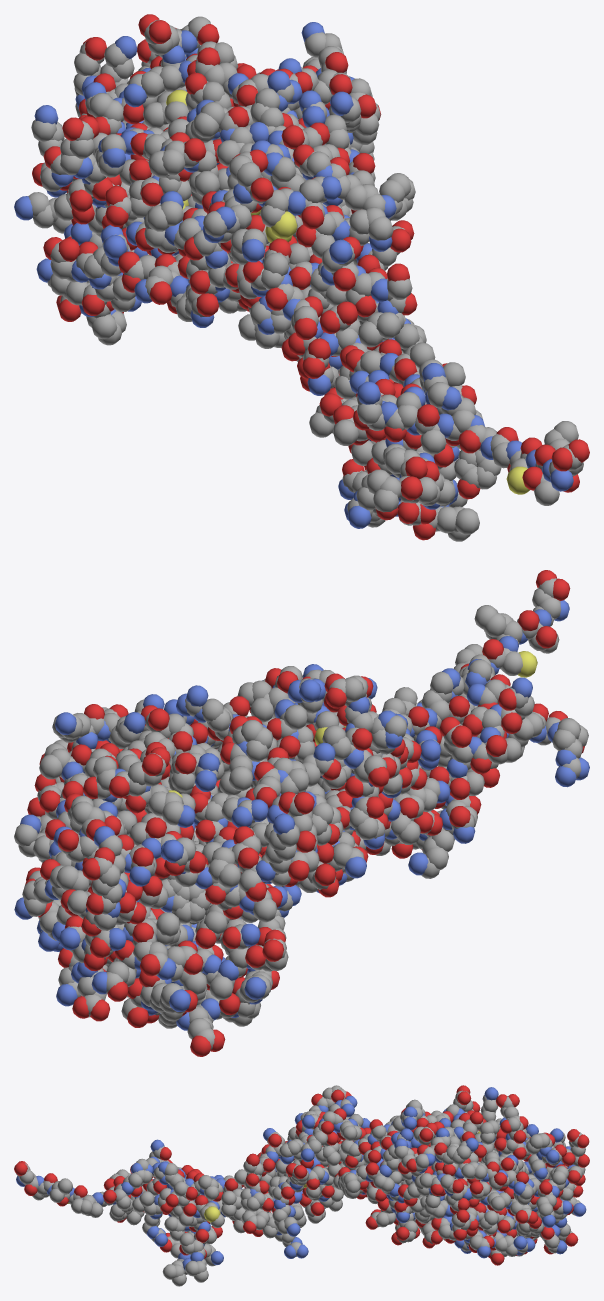
The model's file is influenza-cpk.glb.
3 views of the same model, one above another, from view 1: azimuth 30°, elevation 25°; view 2: azimuth 150°, elevation 25°; view 3: azimuth 270°, elevation 25° (orthographic). The views are drawn at different scales.
Visible parts, largest first — view 1: influenza-cpk; view 2: influenza-cpk; view 3: influenza-cpk.
Boxes of the visible parts, x1,y1,x2,y2 form: influenza-cpk: (14,14,589,541); influenza-cpk: (14,570,589,1056); influenza-cpk: (14,1085,589,1286).
Size of the model in its own units: 46.2 by 44.34 by 125.
